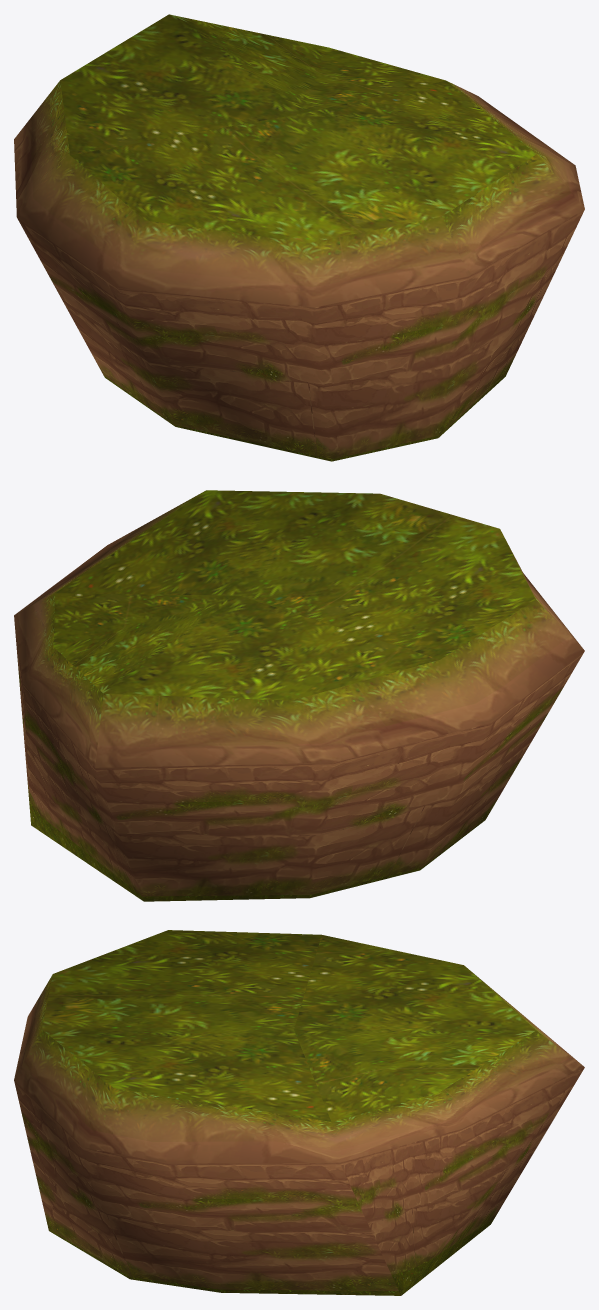
Rendered from suishi_001.FBX.
The picture shows the model from 3 angles, top to bottom: view 1: azimuth 30°, elevation 25°; view 2: azimuth 150°, elevation 25°; view 3: azimuth 270°, elevation 25°; orthographic projection. The views are drawn at different scales.
Parts seen in each view (by area): view 1: suishi_001w; view 2: suishi_001w; view 3: suishi_001w.
Part boxes in pixels (box(x1,y1,x2,y2)): suishi_001w: box(14, 14, 584, 461); suishi_001w: box(14, 490, 584, 901); suishi_001w: box(14, 930, 584, 1295).
Bounding box in the file's own units: 259 × 118 × 302.
Materials: 1 (1 with a texture image).
